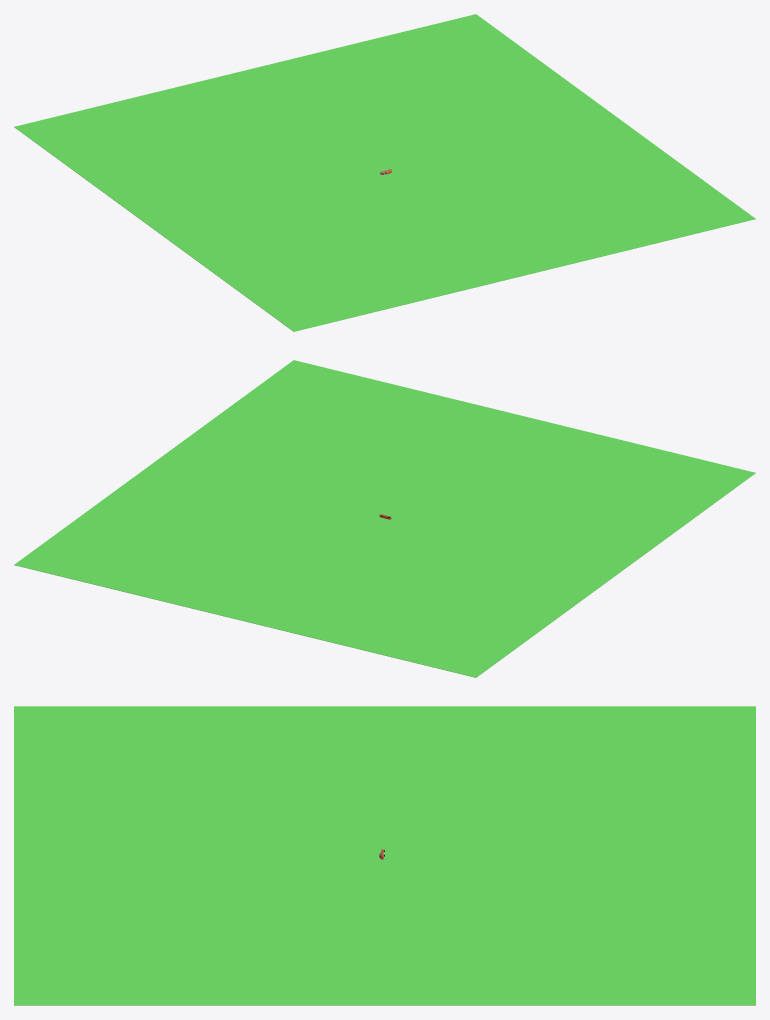
File: auto.glb
The picture shows the model from 3 angles, top to bottom: view 1: azimuth 30°, elevation 25°; view 2: azimuth 150°, elevation 25°; view 3: azimuth 270°, elevation 25°; orthographic projection. The views are drawn at different scales.
Parts seen in each view (by area): view 1: podloga; view 2: podloga; view 3: podloga.
Boxes of the visible parts, x1=… form: podloga: x1=14, y1=14, x2=755, y2=331; podloga: x1=14, y1=360, x2=755, y2=677; podloga: x1=14, y1=706, x2=755, y2=1005.
Bounding box in the file's own units: 158 × 1.97 × 166.
2 materials, 1 textured.
